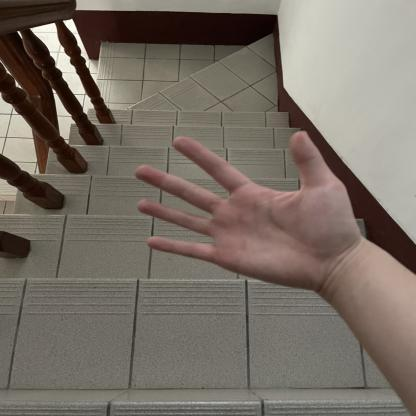bare_hand: (125, 119, 380, 296)
